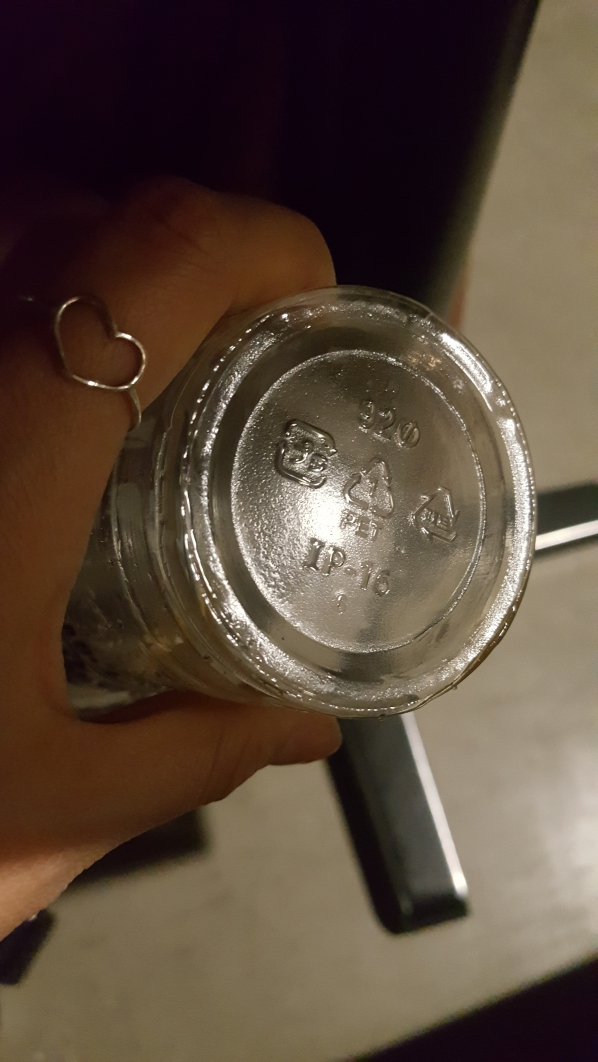recycle: (341, 440, 400, 547)
